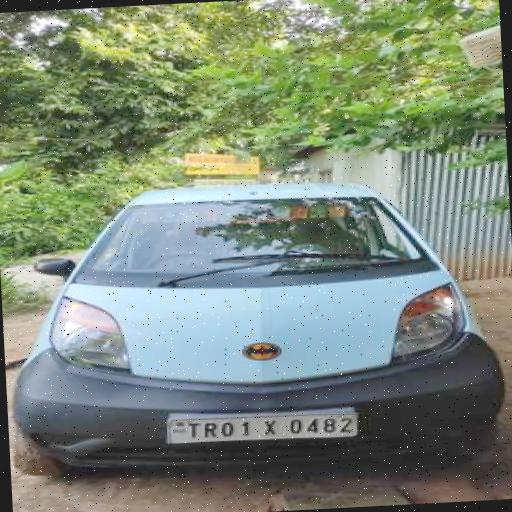license_plate`: (163, 410, 356, 446)
